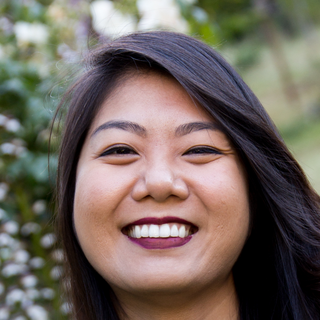eye: (92, 140, 143, 164), (178, 141, 226, 163)
